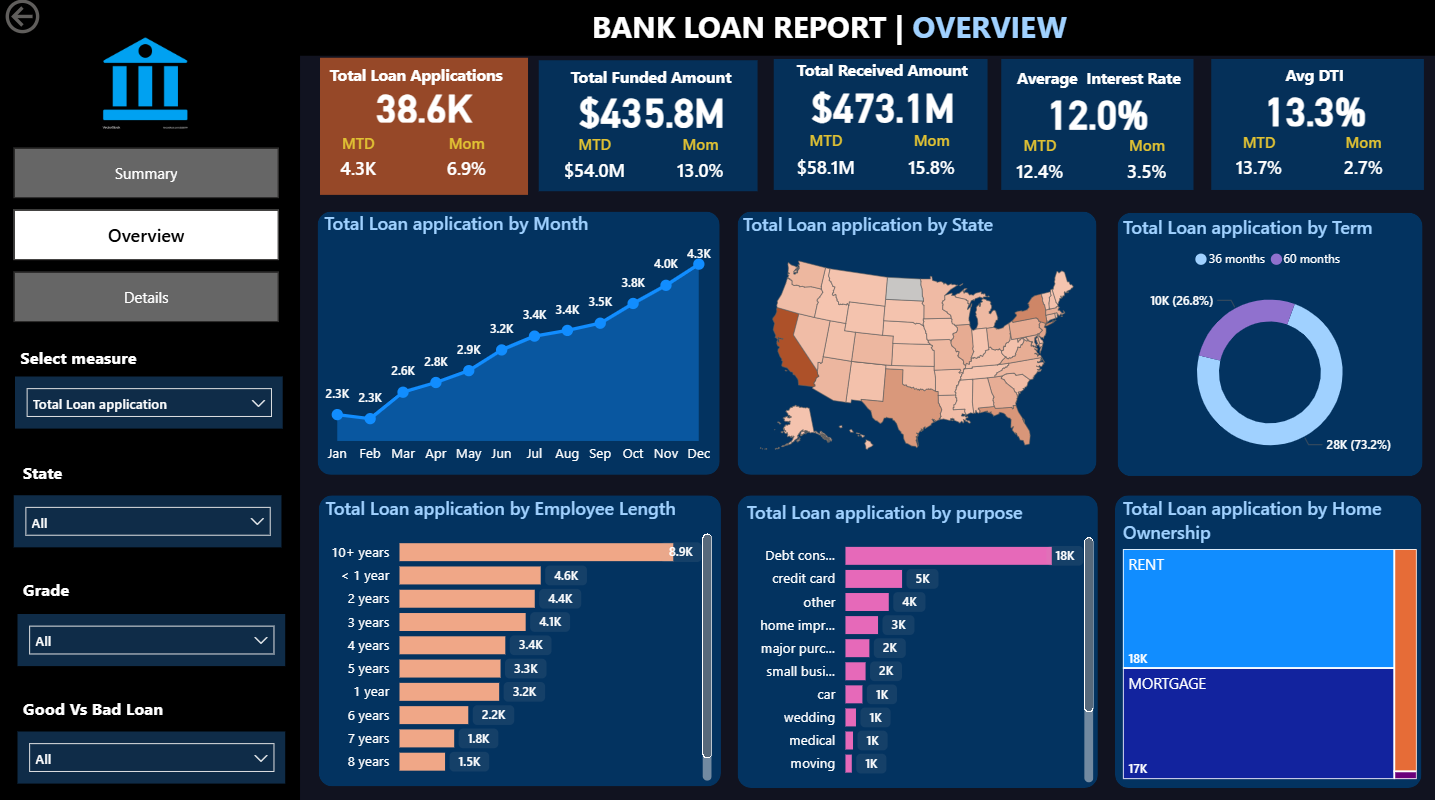

The dashboard page shown, as its layout file describes it:
{"tool":"powerbi","page":{"name":"Overview","canvas":[1280,720],"ordinal":1},"visuals":[{"type":"textbox","box":[12.3,0,168.8,28.8],"z":0},{"type":"card","fields":{"Values":["Measures_Table.Total Amount recieved"]},"box":[689,76.8,194.9,43.5],"z":0,"group":"g4"},{"type":"card","fields":{"Values":["Measures_Table.Total_Loan_application"]},"box":[285,79.5,185.6,39.8],"z":0,"group":"g11"},{"type":"card","fields":{"Values":["Measures_Table.Avg DTI"]},"box":[1075.8,80.7,191.9,42],"z":0,"group":"g7"},{"type":"card","fields":{"Values":["Measures_Table.Total Funded Amount"]},"box":[483.3,81.9,194.9,42.5],"z":0,"group":"g3"},{"type":"card","fields":{"Values":["Measures_Table.Avg interest rate"]},"box":[879.6,83.7,196.2,42.5],"z":0,"group":"g8"},{"type":"shape","box":[0,0,1280.3,55],"z":1000},{"type":"textbox","box":[701.3,52.9,168.8,29.5],"z":1000,"group":"g4"},{"type":"textbox","box":[284,57.6,173.4,28.8],"z":1000,"group":"g11"},{"type":"textbox","box":[1088,57.6,166.3,28.5],"z":1000,"group":"g7"},{"type":"textbox","box":[495.6,58.6,168.8,28.8],"z":1000,"group":"g3"},{"type":"textbox","box":[892,60.4,170,28.8],"z":1000,"group":"g8"},{"type":"shape","box":[0,53.5,267.6,666.9],"z":2000},{"type":"card","title":"MTD","fields":{"Values":["Measures_Table.MTD recieved amount"]},"box":[701.3,120.3,68.6,52],"z":2000,"group":"g4"},{"type":"card","title":"MTD","fields":{"Values":["Measures_Table.MTD DTI"]},"box":[1088,122.7,67.6,50.2],"z":2000,"group":"g7"},{"type":"card","title":"MTD","fields":{"Values":["Measures_Table.MTD Loan Applications"]},"box":[284,123.5,70.5,50.8],"z":2000,"group":"g11"},{"type":"card","title":"MTD","fields":{"Values":["Measures_Table.MTD funded amount"]},"box":[495.6,124.5,68.6,50.8],"z":2000,"group":"g3"},{"type":"card","title":"MTD","fields":{"Values":["Measures_Table.MTD Avg amount"]},"box":[892,126.3,69.1,50.8],"z":2000,"group":"g8"},{"type":"textbox","box":[511.8,5.5,452.8,50.8],"z":3000},{"type":"card","title":"Mom","fields":{"Values":["Measures_Table.MOM Received amount"]},"box":[789.2,120.3,81,52],"z":3000,"group":"g4"},{"type":"card","title":"Mom","fields":{"Values":["Measures_Table.MOM Avg DTI"]},"box":[1174.5,122.7,79.8,50.2],"z":3000,"group":"g7"},{"type":"card","title":"Mom","fields":{"Values":["Measures_Table.MOM_loan_application"]},"box":[374.2,123.5,83.2,50.8],"z":3000,"group":"g11"},{"type":"card","title":"Mom","fields":{"Values":["Measures_Table.MOM funded amount"]},"box":[583.5,124.5,81,50.8],"z":3000,"group":"g3"},{"type":"card","title":"Mom","fields":{"Values":["Measures_Table.MOM Avg amount"]},"box":[980.5,126.3,81.5,50.8],"z":3000,"group":"g8"},{"type":"shape","box":[285.4,56.3,185.2,122.1],"z":4000},{"type":"shape","box":[480.3,59,194.9,116.6],"z":5000},{"type":"shape","box":[688.9,57.6,190.7,116.6],"z":6000},{"type":"group","id":"g1","title":"Group 1","box":[483.3,58.6,194.9,116.6],"z":7000},{"type":"group","id":"g2","title":"Group 2","box":[689,52.9,194.9,119.4],"z":8000},{"type":"group","id":"g3","title":"Group 2","box":[483.3,58.6,194.9,116.6],"z":8001,"group":"g1"},{"type":"group","id":"g4","title":"Group 3","box":[689,52.9,194.9,119.4],"z":8003,"group":"g2"},{"type":"group","id":"g5","title":"Group 3","box":[1075.8,57.6,191.9,115.3],"z":8003,"group":"g9"},{"type":"group","id":"g6","title":"Group 3","box":[879.6,60.4,196.2,116.6],"z":8003,"group":"g10"},{"type":"group","id":"g7","title":"Group 4","box":[1075.8,57.6,191.9,115.3],"z":8005,"group":"g5"},{"type":"group","id":"g8","title":"Group 4","box":[879.6,60.4,196.2,116.6],"z":8005,"group":"g6"},{"type":"shape","box":[1078.6,57.6,189.4,116.6],"z":9000},{"type":"group","id":"g9","title":"Group 2","box":[1075.8,57.6,192.1,115.3],"z":10000},{"type":"shape","box":[891.9,57.6,171.5,116.6],"z":11000},{"type":"group","id":"g10","title":"Group 2","box":[879.6,60.4,196.2,116.6],"z":12000},{"type":"group","id":"g11","title":"Group 1","box":[284,57.6,186.6,116.6],"z":13000},{"type":"actionButton","box":[0,0,100,40],"z":14000},{"type":"slicer","fields":{"Values":["Bank_loan_data.address_state"]},"box":[12.3,446,238.8,46.7],"z":15000},{"type":"textbox","box":[15.1,410.3,57.6,32.9],"z":16000},{"type":"slicer","fields":{"Values":["Bank_loan_data.grade"]},"box":[15.1,551.6,238.8,46.7],"z":17000},{"type":"textbox","box":[15.1,516,102.9,35.7],"z":18000},{"type":"slicer","fields":{"Values":["Bank_loan_data.Good Vs Bad Loan"]},"box":[15.1,657.3,238.8,46.7],"z":19000},{"type":"textbox","box":[15.1,621.6,145.5,35.7],"z":20000},{"type":"shape","box":[282.7,193.5,358.1,234.6],"z":21000},{"type":"areaChart","fields":{"Y":["Measures_Table.Total Loan application"],"Category":["Date_Table.Month_name"]},"box":[284,192.1,355.4,234.6],"z":22000},{"type":"slicer","fields":{"Values":["Select Measure.Select Measure"]},"box":[13.7,340.3,238.8,46.7],"z":23000},{"type":"textbox","box":[13.7,308.7,166,31.6],"z":24000},{"type":"shape","box":[657.3,193.5,319.7,234.6],"z":25000},{"type":"shapeMap","fields":{"Value":["Measures_Table.Total Loan application"],"Category":["Bank_loan_data.address_state"]},"box":[657.3,193.5,319.7,234.6],"z":26000},{"type":"shape","box":[994.9,194.9,271.7,234.6],"z":27000},{"type":"donutChart","fields":{"Y":["Measures_Table.Total Loan application"],"Category":["Bank_loan_data.term"]},"box":[994.9,196.2,271.7,233.3],"z":28000},{"type":"shape","box":[284,446,358.1,259.3],"z":29000},{"type":"barChart","fields":{"Y":["Measures_Table.Total Loan application"],"Category":["Bank_loan_data.emp_length"]},"box":[285.4,446,354,259.3],"z":30000},{"type":"shape","box":[657.3,446,321.1,260.7],"z":31000},{"type":"barChart","fields":{"Y":["Measures_Table.Total Loan application"],"Category":["Bank_loan_data.purpose"]},"box":[660,450,318.8,257.5],"z":32000},{"type":"shape","box":[993.5,446,273.1,260.7],"z":33000},{"type":"treemap","fields":{"Values":["Measures_Table.Total Loan application"],"Group":["Bank_loan_data.home_ownership"]},"box":[994.9,446,271.7,258],"z":34000},{"type":"pageNavigator","box":[12.3,137.2,236,155.1],"z":35000},{"type":"image","box":[79.6,35.7,100.2,86.4],"z":36000}]}

Visuals, with their boxes in screenshot pixels (x1, y1, x2, y2), scaled from the page's 1280x720 canvas onto the 1435x800 screenshot:
textbox: (x1=14, y1=0, x2=203, y2=32)
card - Measures_Table.Total Amount recieved: (x1=772, y1=85, x2=991, y2=134)
card - Measures_Table.Total_Loan_application: (x1=320, y1=88, x2=528, y2=133)
card - Measures_Table.Avg DTI: (x1=1206, y1=90, x2=1421, y2=136)
card - Measures_Table.Total Funded Amount: (x1=542, y1=91, x2=760, y2=138)
card - Measures_Table.Avg interest rate: (x1=986, y1=93, x2=1206, y2=140)
shape: (x1=0, y1=0, x2=1434, y2=61)
textbox: (x1=786, y1=59, x2=975, y2=92)
textbox: (x1=318, y1=64, x2=513, y2=96)
textbox: (x1=1220, y1=64, x2=1406, y2=96)
textbox: (x1=556, y1=65, x2=745, y2=97)
textbox: (x1=1000, y1=67, x2=1191, y2=99)
shape: (x1=0, y1=59, x2=300, y2=799)
"MTD" card: (x1=786, y1=134, x2=863, y2=191)
"MTD" card: (x1=1220, y1=136, x2=1296, y2=192)
"MTD" card: (x1=318, y1=137, x2=397, y2=194)
"MTD" card: (x1=556, y1=138, x2=633, y2=195)
"MTD" card: (x1=1000, y1=140, x2=1077, y2=197)
textbox: (x1=574, y1=6, x2=1081, y2=63)
"Mom" card: (x1=885, y1=134, x2=976, y2=191)
"Mom" card: (x1=1317, y1=136, x2=1406, y2=192)
"Mom" card: (x1=420, y1=137, x2=513, y2=194)
"Mom" card: (x1=654, y1=138, x2=745, y2=195)
"Mom" card: (x1=1099, y1=140, x2=1191, y2=197)
shape: (x1=320, y1=63, x2=528, y2=198)
shape: (x1=538, y1=66, x2=757, y2=195)
shape: (x1=772, y1=64, x2=986, y2=194)
"Group 1" group: (x1=542, y1=65, x2=760, y2=195)
"Group 2" group: (x1=772, y1=59, x2=991, y2=191)
"Group 2" group: (x1=542, y1=65, x2=760, y2=195)
"Group 3" group: (x1=772, y1=59, x2=991, y2=191)
"Group 3" group: (x1=1206, y1=64, x2=1421, y2=192)
"Group 3" group: (x1=986, y1=67, x2=1206, y2=197)
"Group 4" group: (x1=1206, y1=64, x2=1421, y2=192)
"Group 4" group: (x1=986, y1=67, x2=1206, y2=197)
shape: (x1=1209, y1=64, x2=1422, y2=194)
"Group 2" group: (x1=1206, y1=64, x2=1421, y2=192)
shape: (x1=1000, y1=64, x2=1192, y2=194)
"Group 2" group: (x1=986, y1=67, x2=1206, y2=197)
"Group 1" group: (x1=318, y1=64, x2=528, y2=194)
actionButton: (x1=0, y1=0, x2=112, y2=44)
slicer - Bank_loan_data.address_state: (x1=14, y1=496, x2=282, y2=547)
textbox: (x1=17, y1=456, x2=82, y2=492)
slicer - Bank_loan_data.grade: (x1=17, y1=613, x2=285, y2=665)
textbox: (x1=17, y1=573, x2=132, y2=613)
slicer - Bank_loan_data.Good Vs Bad Loan: (x1=17, y1=730, x2=285, y2=782)
textbox: (x1=17, y1=691, x2=180, y2=730)
shape: (x1=317, y1=215, x2=718, y2=476)
areaChart - Measures_Table.Total Loan application x Date_Table.Month_name: (x1=318, y1=213, x2=717, y2=474)
slicer - Select Measure.Select Measure: (x1=15, y1=378, x2=283, y2=430)
textbox: (x1=15, y1=343, x2=201, y2=378)
shape: (x1=737, y1=215, x2=1095, y2=476)
shapeMap - Measures_Table.Total Loan application x Bank_loan_data.address_state: (x1=737, y1=215, x2=1095, y2=476)
shape: (x1=1115, y1=217, x2=1420, y2=477)
donutChart - Measures_Table.Total Loan application x Bank_loan_data.term: (x1=1115, y1=218, x2=1420, y2=477)
shape: (x1=318, y1=496, x2=720, y2=784)
barChart - Measures_Table.Total Loan application x Bank_loan_data.emp_length: (x1=320, y1=496, x2=717, y2=784)
shape: (x1=737, y1=496, x2=1097, y2=785)
barChart - Measures_Table.Total Loan application x Bank_loan_data.purpose: (x1=740, y1=500, x2=1097, y2=786)
shape: (x1=1114, y1=496, x2=1420, y2=785)
treemap - Measures_Table.Total Loan application x Bank_loan_data.home_ownership: (x1=1115, y1=496, x2=1420, y2=782)
pageNavigator: (x1=14, y1=152, x2=278, y2=325)
image: (x1=89, y1=40, x2=202, y2=136)
